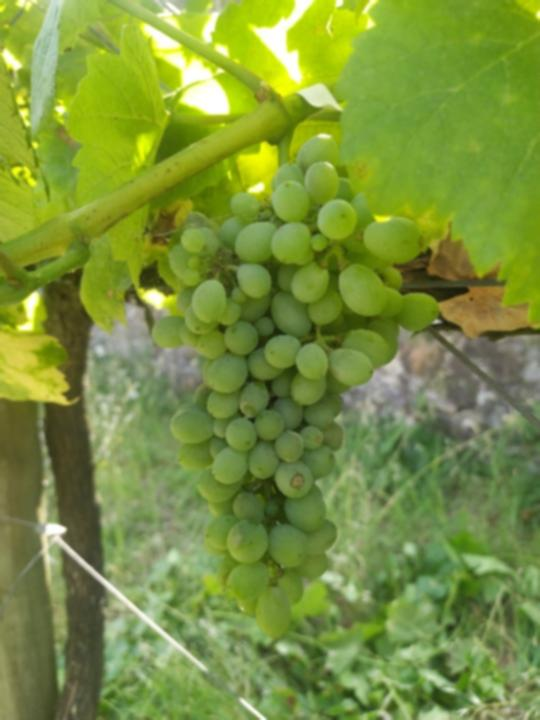grape: (146, 129, 442, 646)
